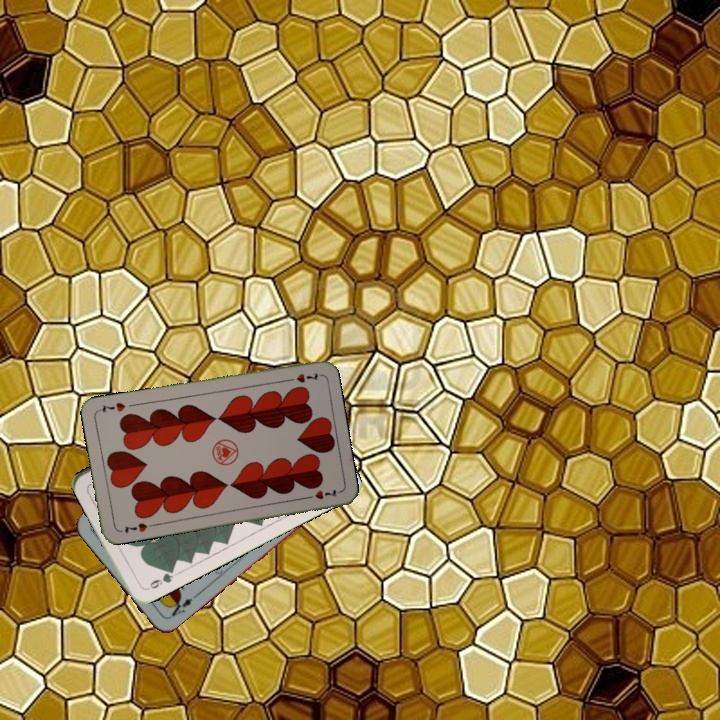EA: (164, 591, 199, 621)
G9: (141, 565, 176, 593)
H7: (282, 369, 321, 385), (120, 519, 150, 536)
